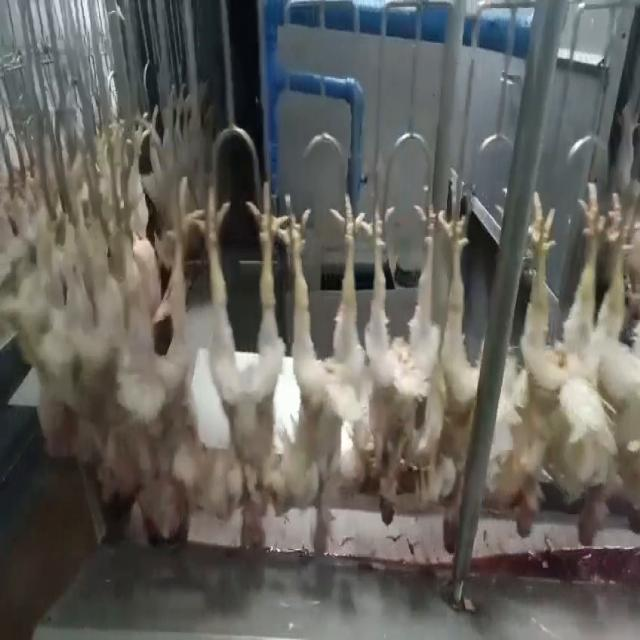chicken: (484, 186, 598, 535), (272, 189, 366, 558), (364, 183, 446, 529), (206, 174, 278, 560), (143, 167, 210, 545), (573, 177, 637, 554), (423, 180, 476, 556), (97, 175, 141, 496)
